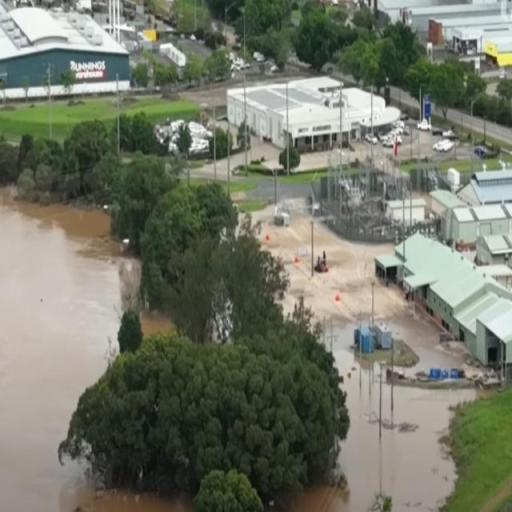flood: (0, 188, 191, 512), (334, 342, 476, 512), (378, 287, 443, 360)
house: (403, 226, 508, 380), (229, 74, 373, 159), (3, 3, 130, 76), (429, 20, 492, 66), (468, 166, 510, 204)
